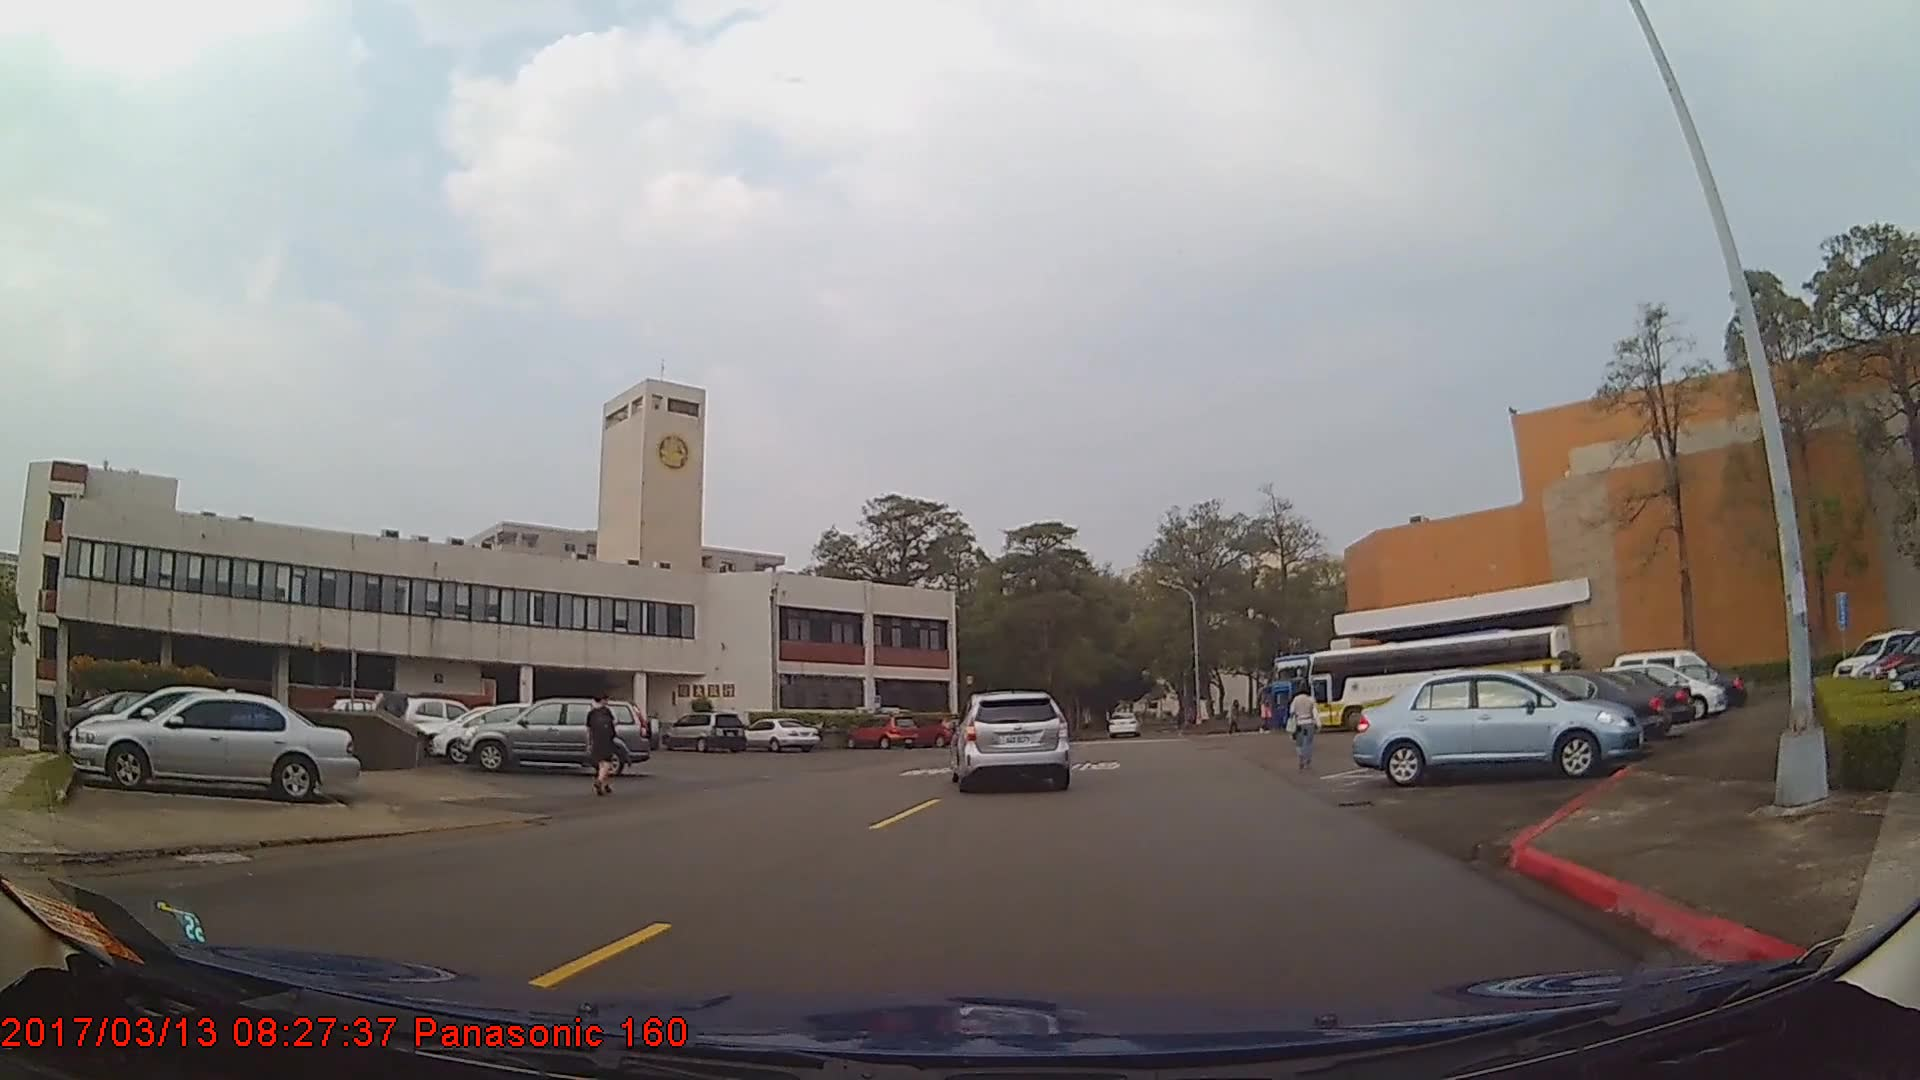pedestrian: (584, 688, 621, 794), (1285, 680, 1318, 770)
vehicle: (1353, 665, 1646, 785), (68, 687, 359, 800), (1306, 623, 1575, 734), (1435, 671, 1671, 747), (456, 694, 653, 775), (1503, 668, 1694, 737), (953, 689, 1066, 792), (429, 702, 585, 765), (402, 692, 491, 745), (659, 708, 749, 751), (842, 712, 919, 750), (738, 713, 820, 748), (1106, 712, 1138, 741)
